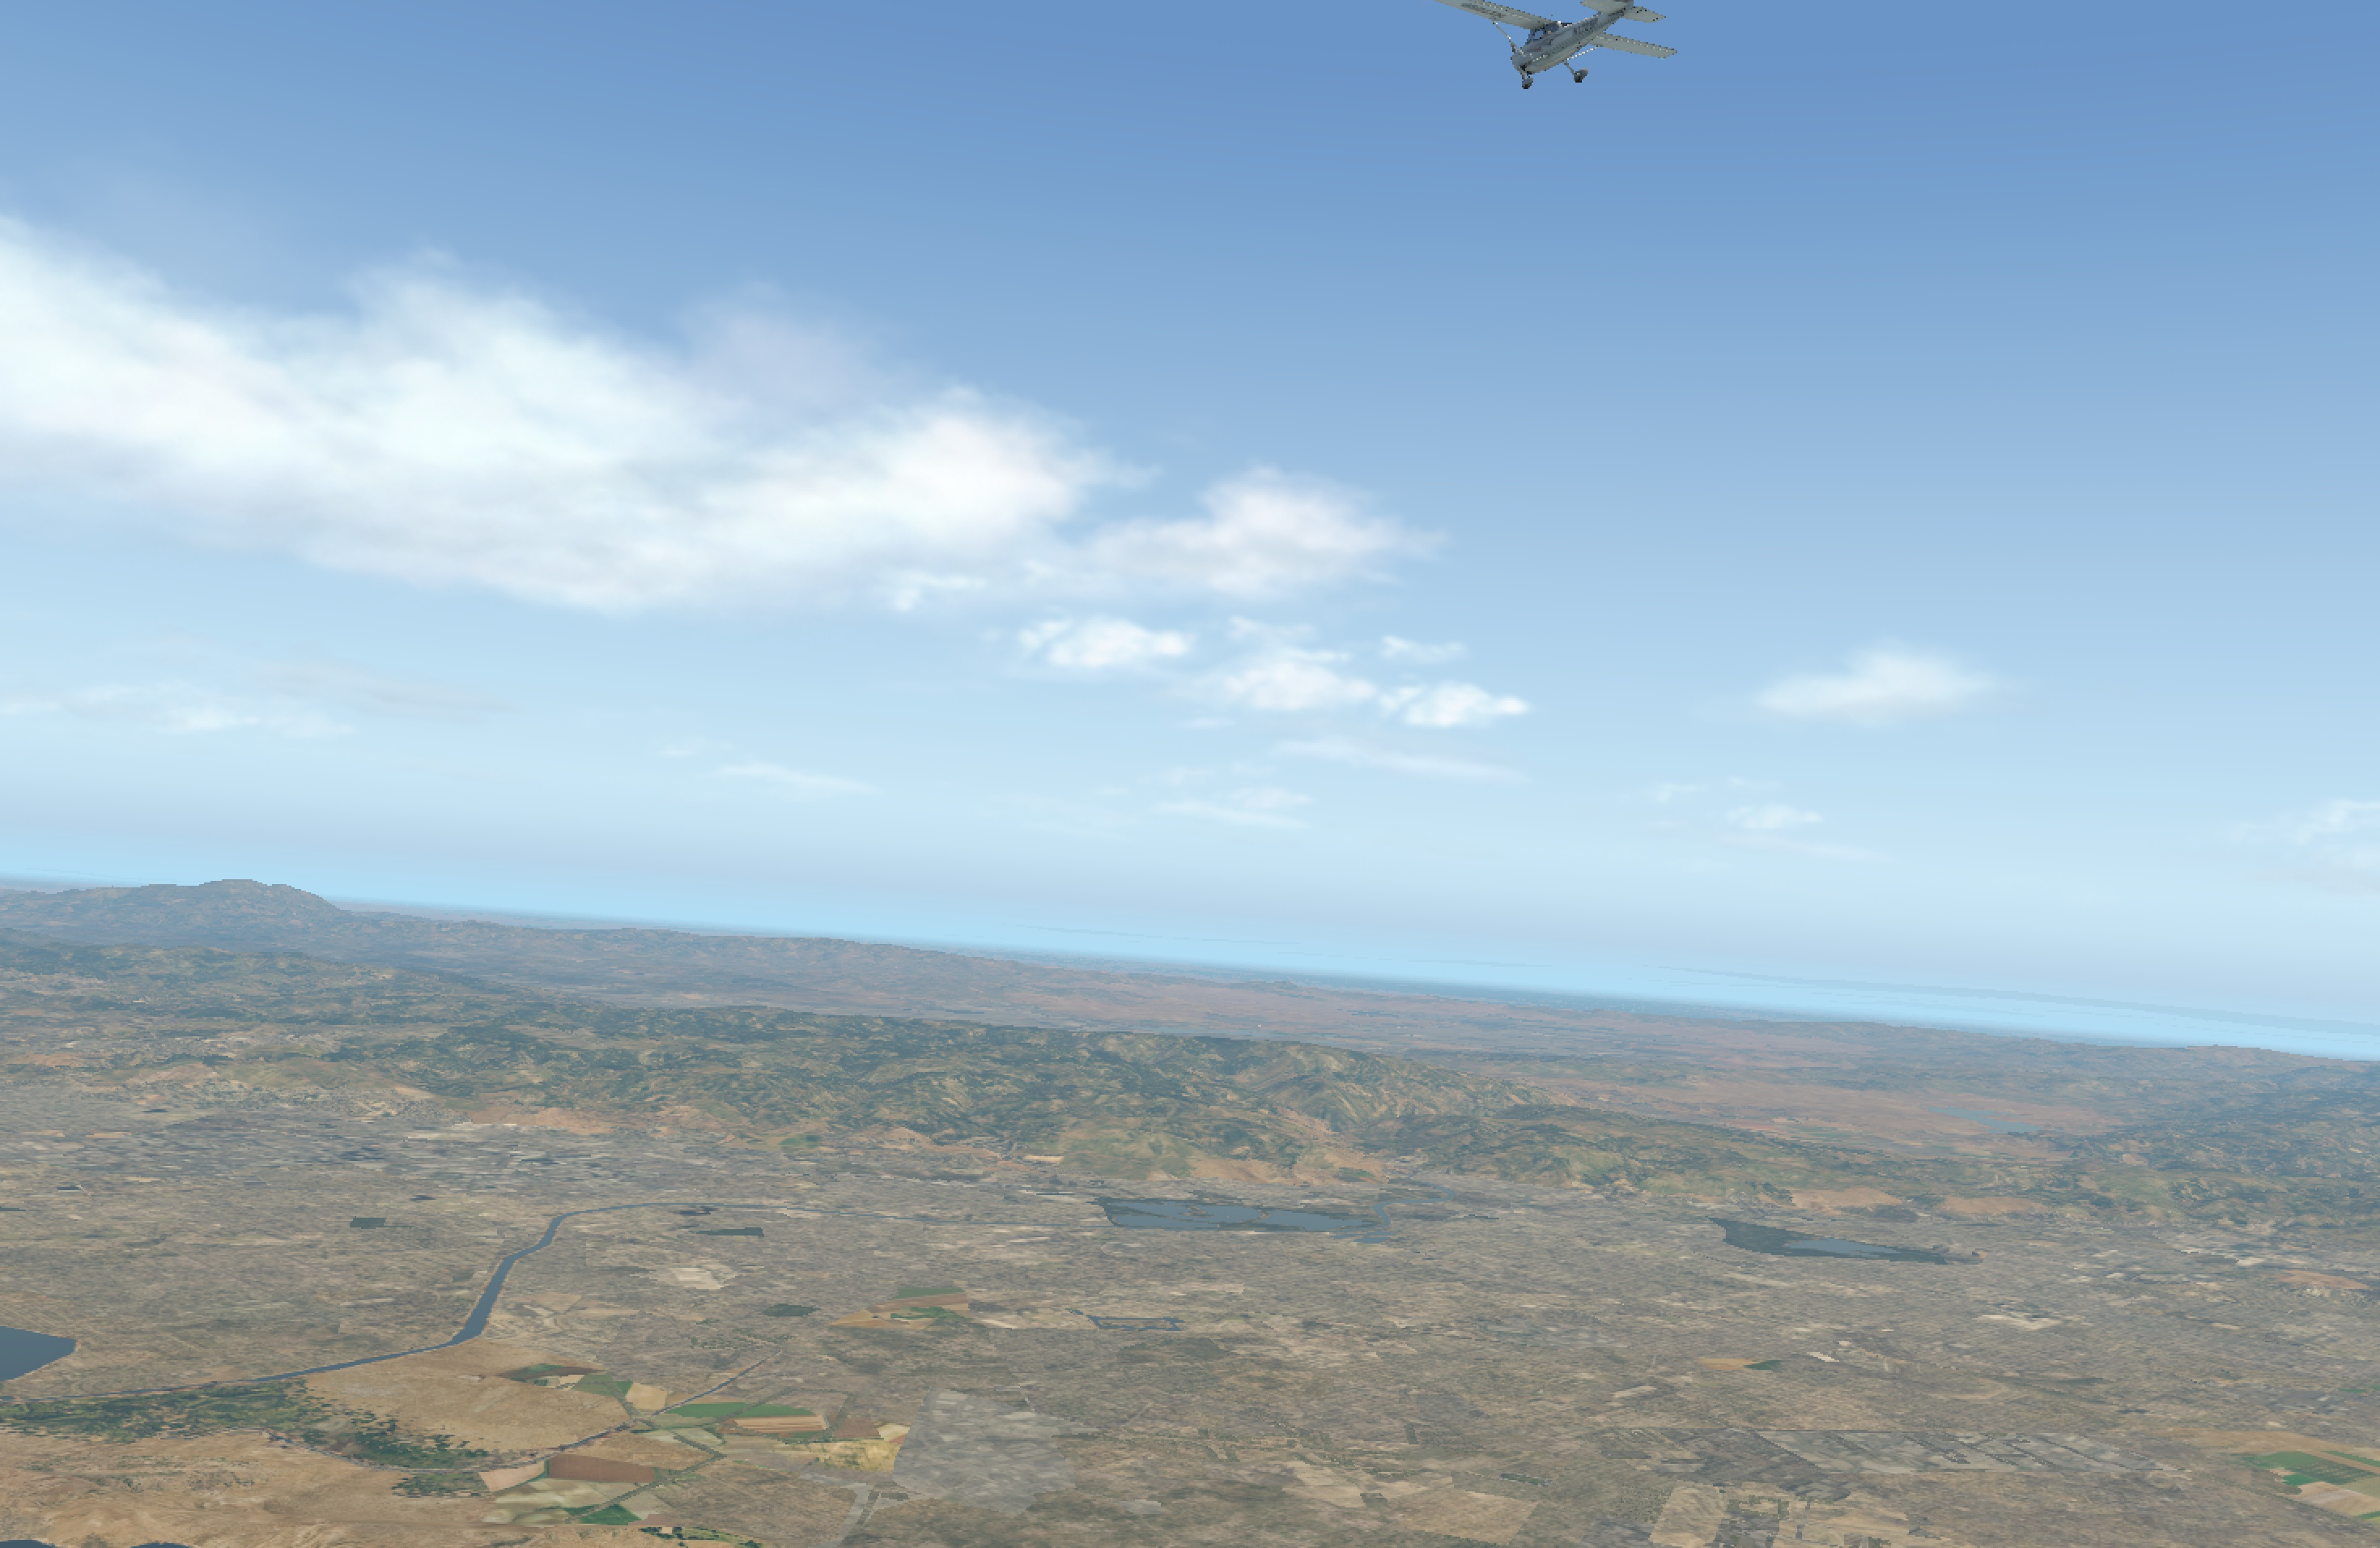aircraft: (1454, 9, 1644, 80)
